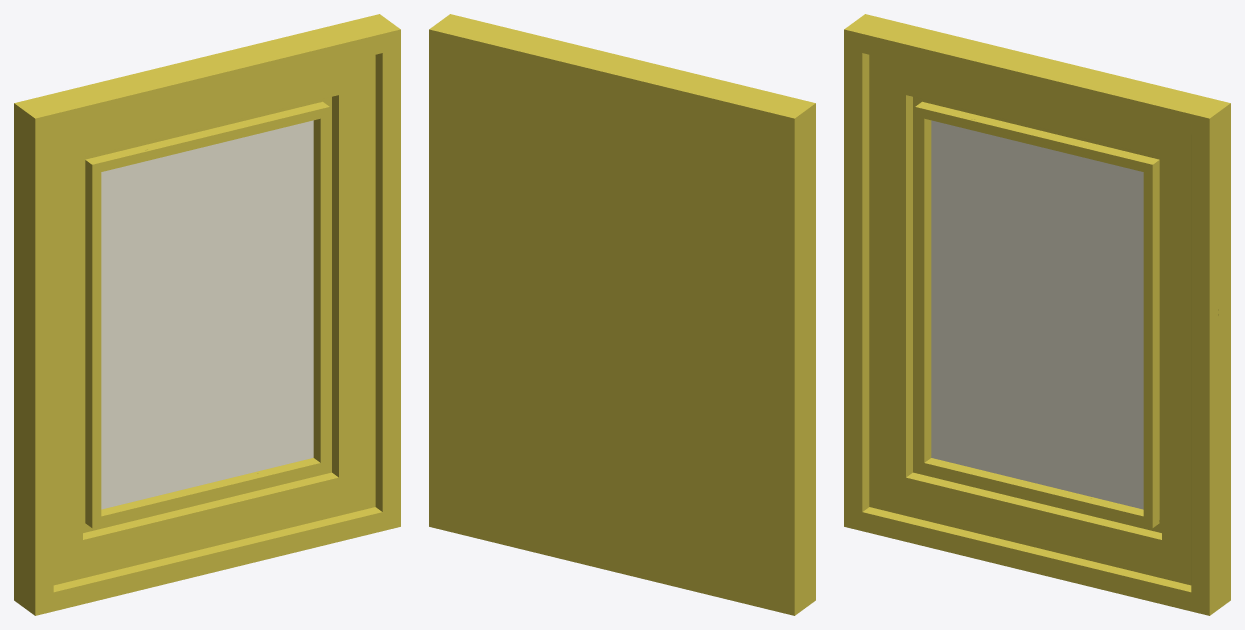
Rendered from painting.fbx.
3 views of the same model, side by side, from view 1: azimuth 30°, elevation 25°; view 2: azimuth 150°, elevation 25°; view 3: azimuth 330°, elevation 25° (orthographic).
Visible parts, largest first — view 1: Painting; view 2: Painting; view 3: Painting.
Part boxes in pixels (x1,y1,x2,y2): Painting: (14,14,400,615); Painting: (429,14,815,615); Painting: (844,14,1230,615).
Bounding box in the file's own units: 100 × 130 × 10.
